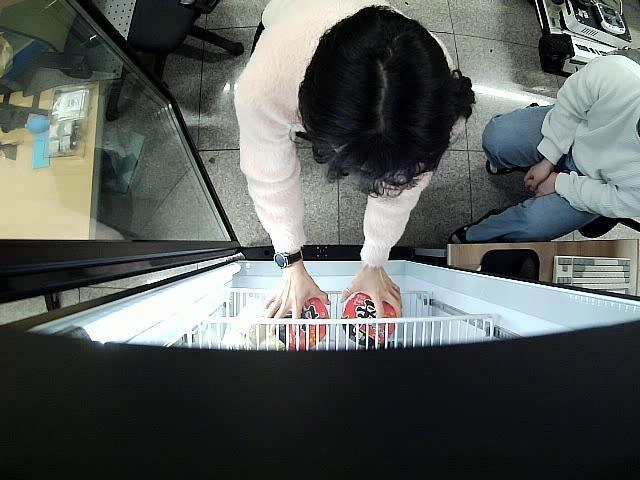01_ShinRamen_L: (343, 292, 397, 346), (273, 298, 330, 349)
